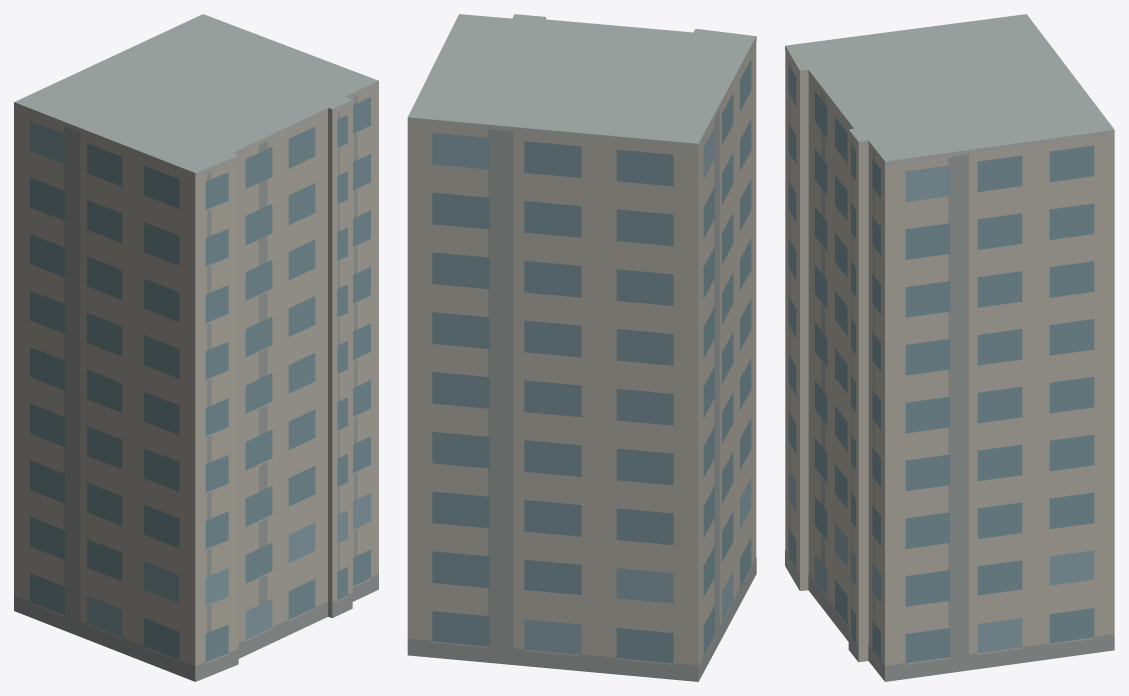
Rendered from residential-cd234ae2-2509-4793-84d1-b5dfacc5068a.glb.
3 views of the same model, side by side, from view 1: azimuth 30°, elevation 25°; view 2: azimuth 150°, elevation 25°; view 3: azimuth 270°, elevation 25° (orthographic). The views are drawn at different scales.
Parts seen in each view (by area): view 1: residential-cd234ae2-2509-4793-84d1-b5dfacc5068a.tmp; view 2: residential-cd234ae2-2509-4793-84d1-b5dfacc5068a.tmp; view 3: residential-cd234ae2-2509-4793-84d1-b5dfacc5068a.tmp.
Part boxes in pixels (left/top/right/bottom): residential-cd234ae2-2509-4793-84d1-b5dfacc5068a.tmp: left=14, top=14, right=378, bottom=681; residential-cd234ae2-2509-4793-84d1-b5dfacc5068a.tmp: left=407, top=14, right=756, bottom=681; residential-cd234ae2-2509-4793-84d1-b5dfacc5068a.tmp: left=785, top=14, right=1114, bottom=681.
Size of the model in its own units: 16.69 by 27.45 by 15.76.
